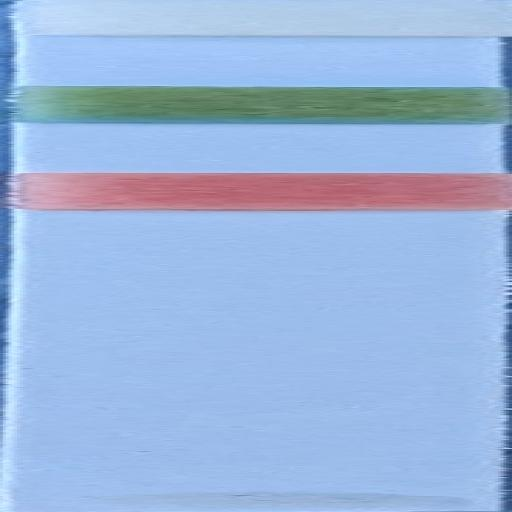pads: (0, 172, 512, 212), (0, 0, 512, 39), (15, 85, 512, 125)
